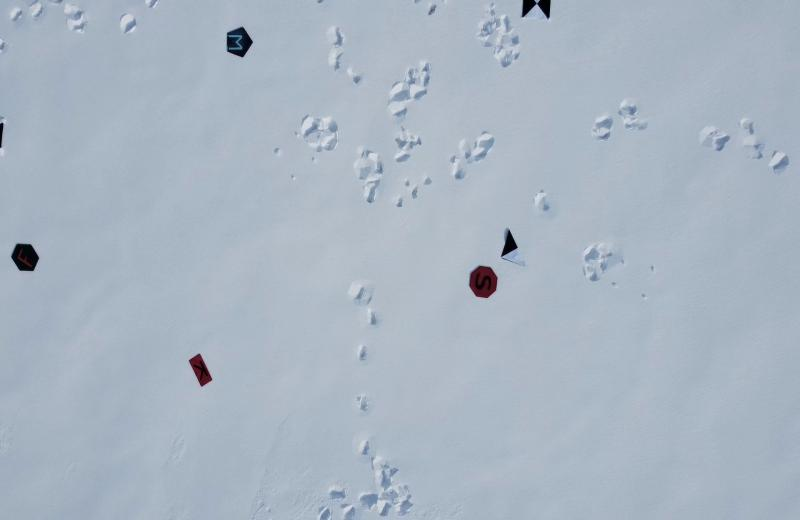Hexagon: (7, 240, 41, 275)
Octagon: (465, 262, 500, 302)
Pentagon: (220, 24, 254, 61)
Rectangle: (186, 352, 215, 388)
